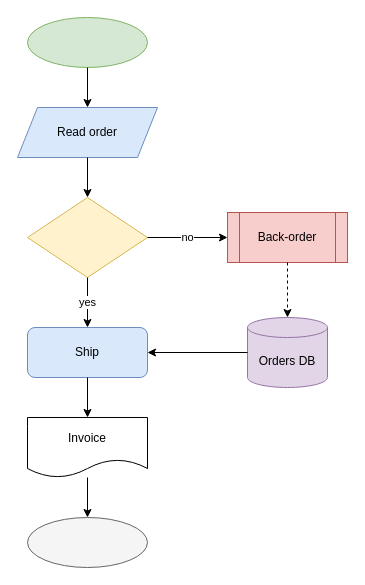
The diagram is 365 pixels wide and 585 high, and some of its shapes have lost their labels. Here are the shapes that lost their labels. From the top down, the centre of each, then its label:
At (87,42): "Start".
At (87,237): "In stock?".
At (87,542): "End".
